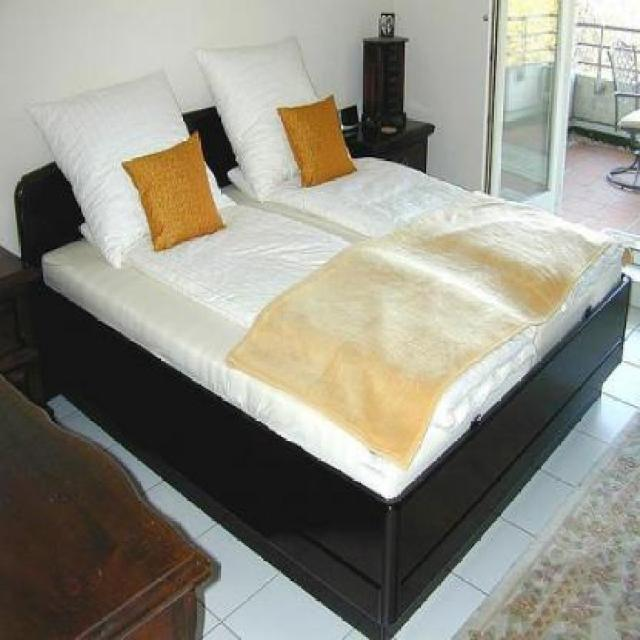Bed: (7, 38, 636, 640)
